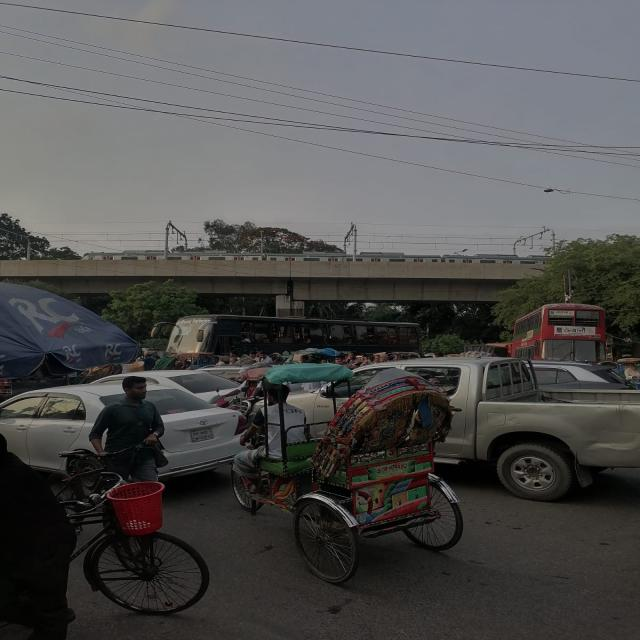person: (88, 376, 166, 482)
